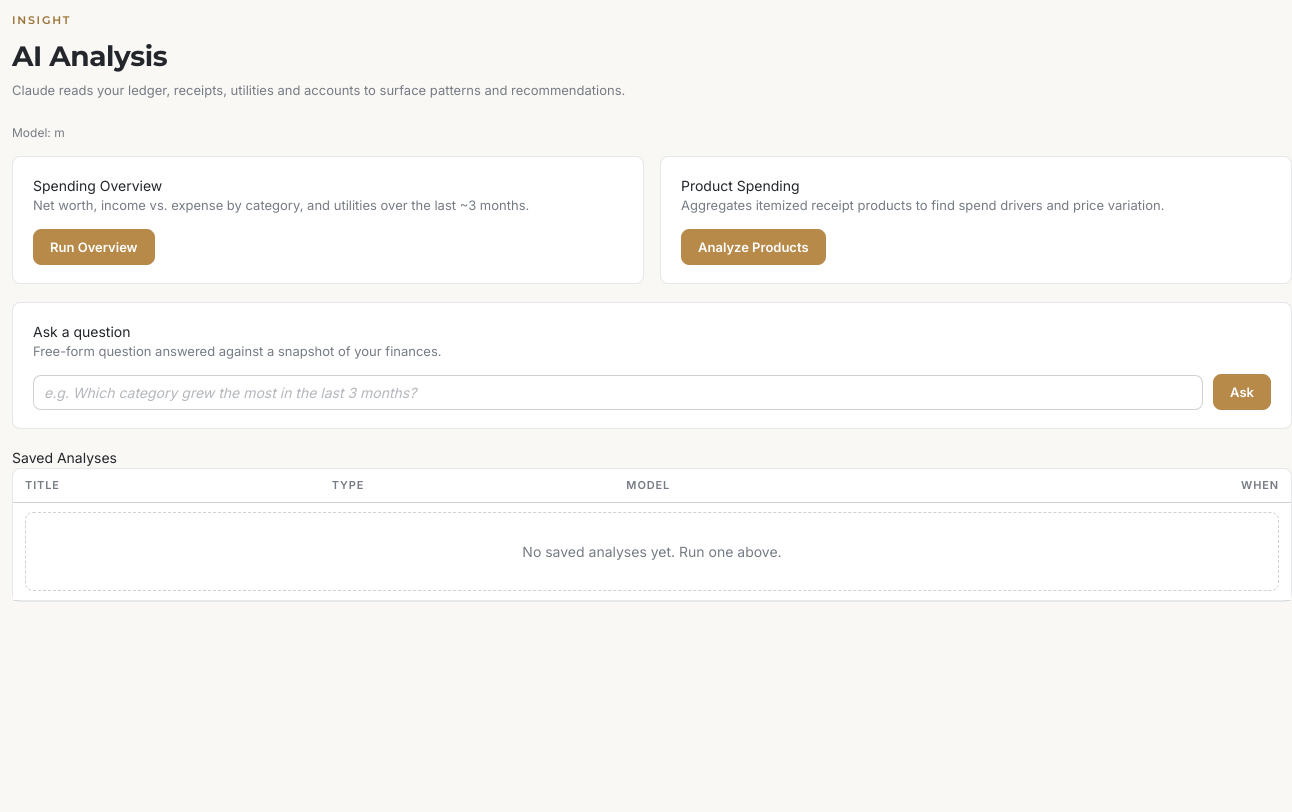
it: Analysis page › runs the product analysis
Click the button "Analyze Products".
click(753, 246)  # box [681,228,826,264]
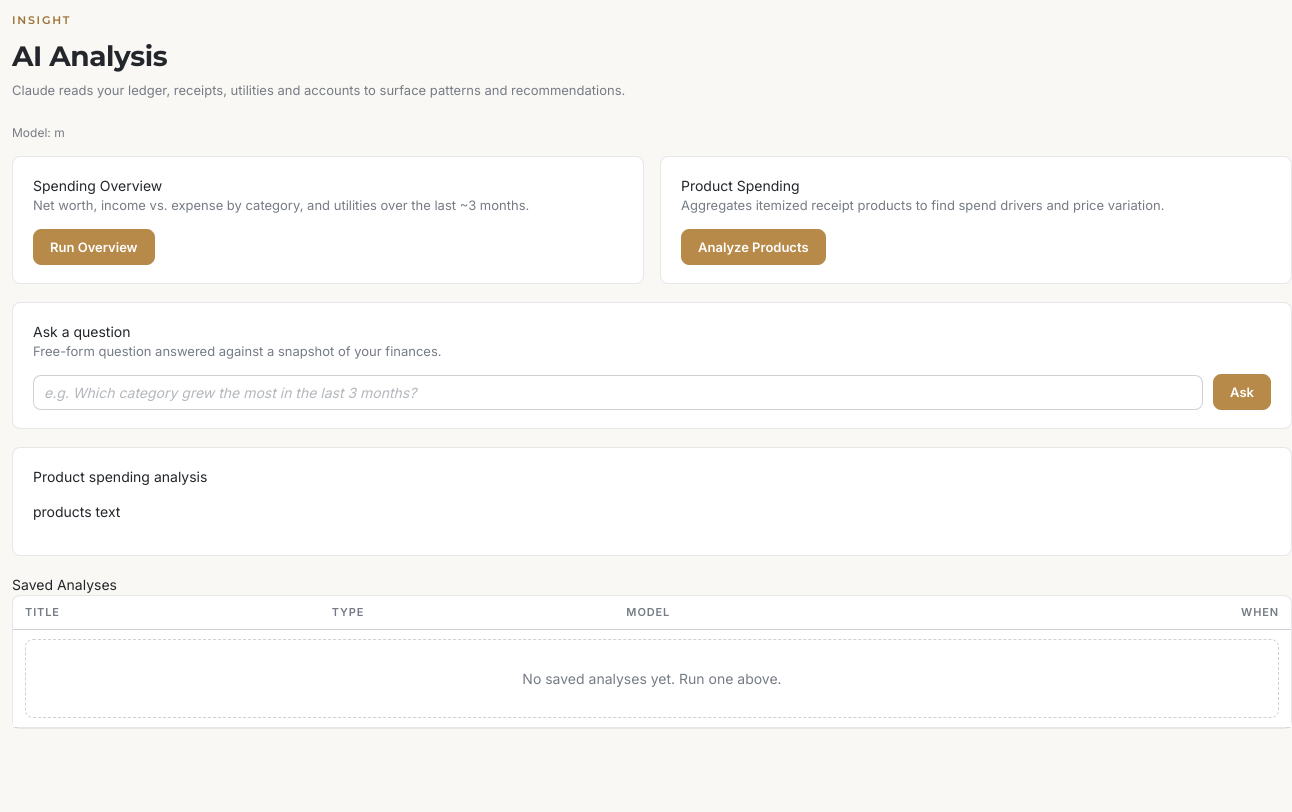
Now the text "products text" is shown, box [33,503,120,520]
